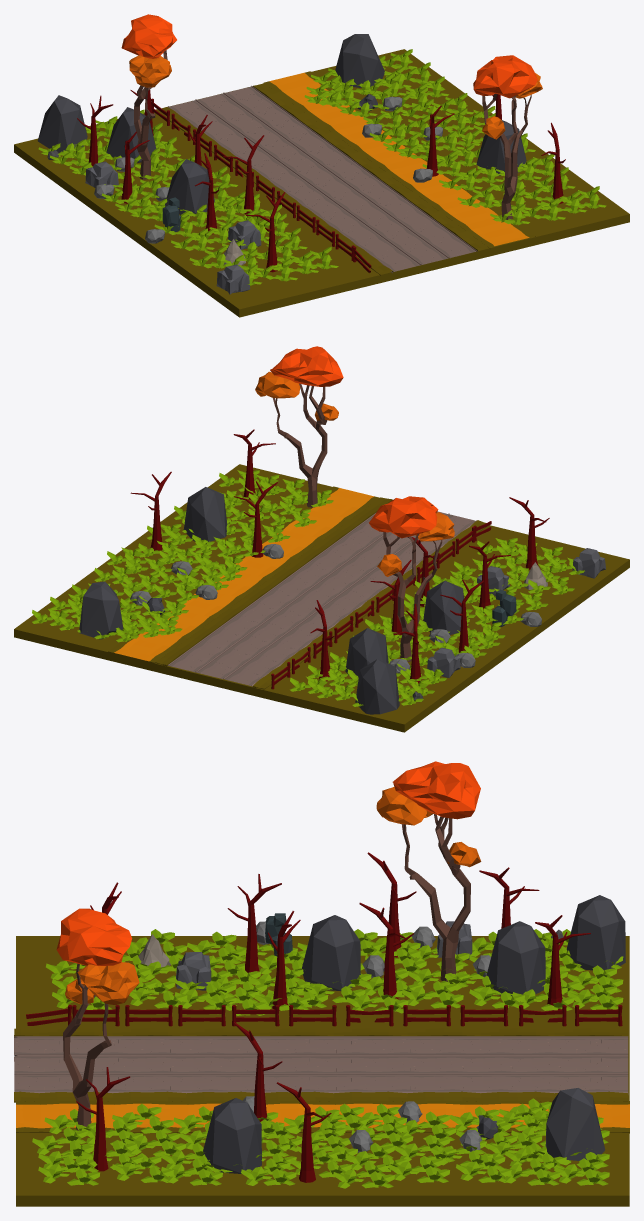
The model's file is Forest Area 6.fbx.
3 renders of one model, top to bottom at view 1: azimuth 30°, elevation 25°; view 2: azimuth 150°, elevation 25°; view 3: azimuth 270°, elevation 25°, orthographic. The views are drawn at different scales.
Parts seen in each view (by area): view 1: Plane.006, SM_Env_Path_Straight_01.2064, SM_Env_Grass_01.046, SM_Env_Tree_02.005, WoodFence1.251, Rock_04.011, Rock_04.007, Rock_04.010, Rock_04.009, Rock_04.012, Rock5.008, Rock5.006 (+9 smaller); view 2: Plane.006, SM_Env_Path_Straight_01.2064, SM_Env_Grass_01.046, SM_Env_Tree_02.005, Rock_04.011, WoodFence1.251, Rock_04.012, Rock_04.007, Rock_04.010, Rock_04.009, Rock5.008, Rock5.006 (+9 smaller); view 3: SM_Env_Path_Straight_01.2064, Plane.006, SM_Env_Grass_01.046, SM_Env_Tree_02.005, WoodFence1.251, Rock_04.012, Rock_04.011, Rock_04.010, Rock_04.009, Rock_04.007, TreeDead1.015, TreeDead1.016 (+9 smaller).
Boxes of the visible parts, left/top/right/bottom form: Plane.006: left=14, top=49, right=629, bottom=317; SM_Env_Path_Straight_01.2064: left=156, top=83, right=490, bottom=275; SM_Env_Grass_01.046: left=264, top=55, right=542, bottom=247; SM_Env_Tree_02.005: left=121, top=14, right=176, bottom=179; WoodFence1.251: left=151, top=98, right=371, bottom=272; Rock_04.011: left=37, top=95, right=87, bottom=152; Rock_04.007: left=335, top=34, right=384, bottom=87; Rock_04.010: left=165, top=159, right=214, bottom=215; Rock_04.009: left=106, top=107, right=156, bottom=162; Rock_04.012: left=476, top=120, right=526, bottom=175; Rock5.008: left=216, top=264, right=250, bottom=294; Rock5.006: left=85, top=161, right=118, bottom=187; Plane.006: left=14, top=464, right=629, bottom=732; SM_Env_Path_Straight_01.2064: left=155, top=497, right=487, bottom=689; SM_Env_Grass_01.046: left=108, top=346, right=379, bottom=663; SM_Env_Tree_02.005: left=369, top=496, right=454, bottom=661; Rock_04.011: left=355, top=659, right=399, bottom=714; WoodFence1.251: left=271, top=521, right=491, bottom=689; Rock_04.012: left=183, top=487, right=227, bottom=541; Rock_04.007: left=79, top=581, right=122, bottom=639; Rock_04.010: left=423, top=580, right=463, bottom=634; Rock_04.009: left=345, top=628, right=388, bottom=678; Rock5.008: left=572, top=548, right=605, bottom=578; Rock5.006: left=427, top=647, right=460, bottom=677; SM_Env_Path_Straight_01.2064: left=14, top=1028, right=628, bottom=1102; Plane.006: left=16, top=936, right=629, bottom=1206; SM_Env_Grass_01.046: left=16, top=908, right=629, bottom=1133; SM_Env_Tree_02.005: left=376, top=761, right=481, bottom=981; WoodFence1.251: left=26, top=1005, right=622, bottom=1026; Rock_04.012: left=203, top=1098, right=261, bottom=1173; Rock_04.011: left=566, top=895, right=625, bottom=970; Rock_04.010: left=301, top=915, right=360, bottom=990; Rock_04.009: left=486, top=921, right=545, bottom=995; Rock_04.007: left=545, top=1088, right=605, bottom=1160; TreeDead1.015: left=276, top=1082, right=331, bottom=1182; TreeDead1.016: left=76, top=1067, right=130, bottom=1171.
Size of what is drawn, in the model's own units: 10052 by 4040 by 10034.
